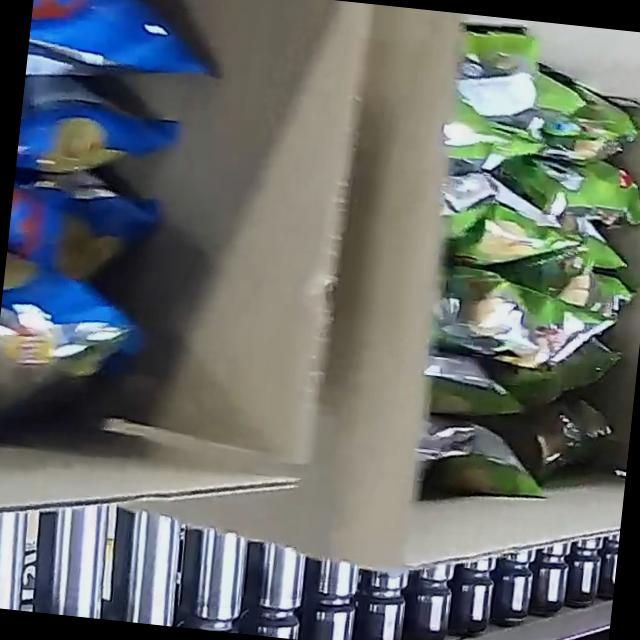paprika: (0, 0, 226, 446)
yogurt: (406, 20, 640, 511)
